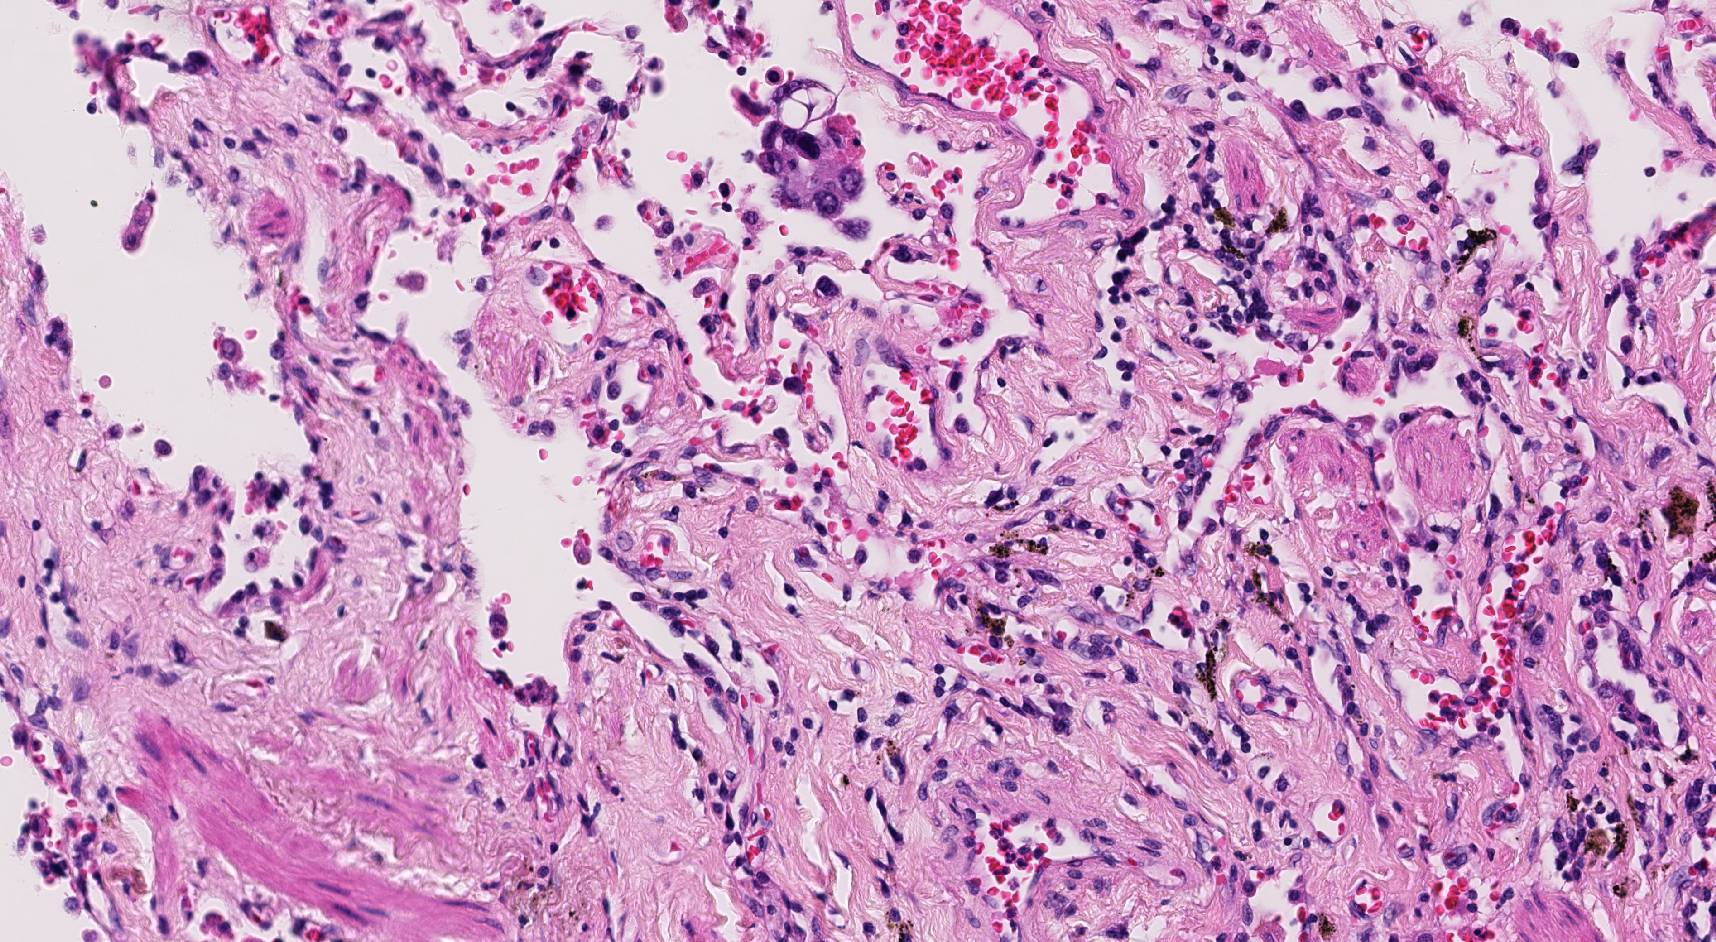stas: (736, 78, 875, 235)
